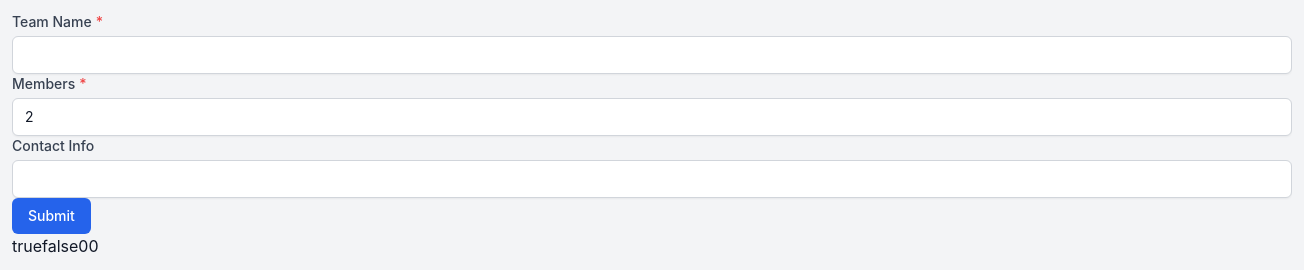
Test case: Form Validation › Input Sanitization › should sanitize numbers within range
Note: Type a number outside the valid range
Replace the text in the number field with test id "members-input" with "15". click: {"x": 652, "y": 117}
box: x1=12 y1=98 x2=1292 y2=136
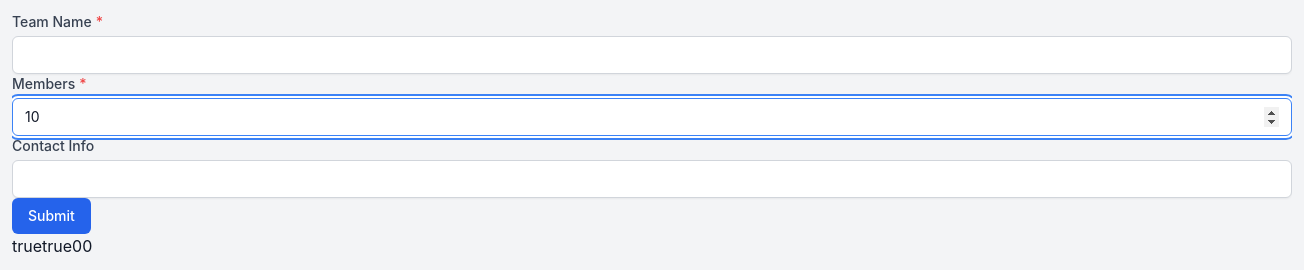
Result: the number field with test id "members-input" holds "10" at x1=12 y1=98 x2=1292 y2=136
